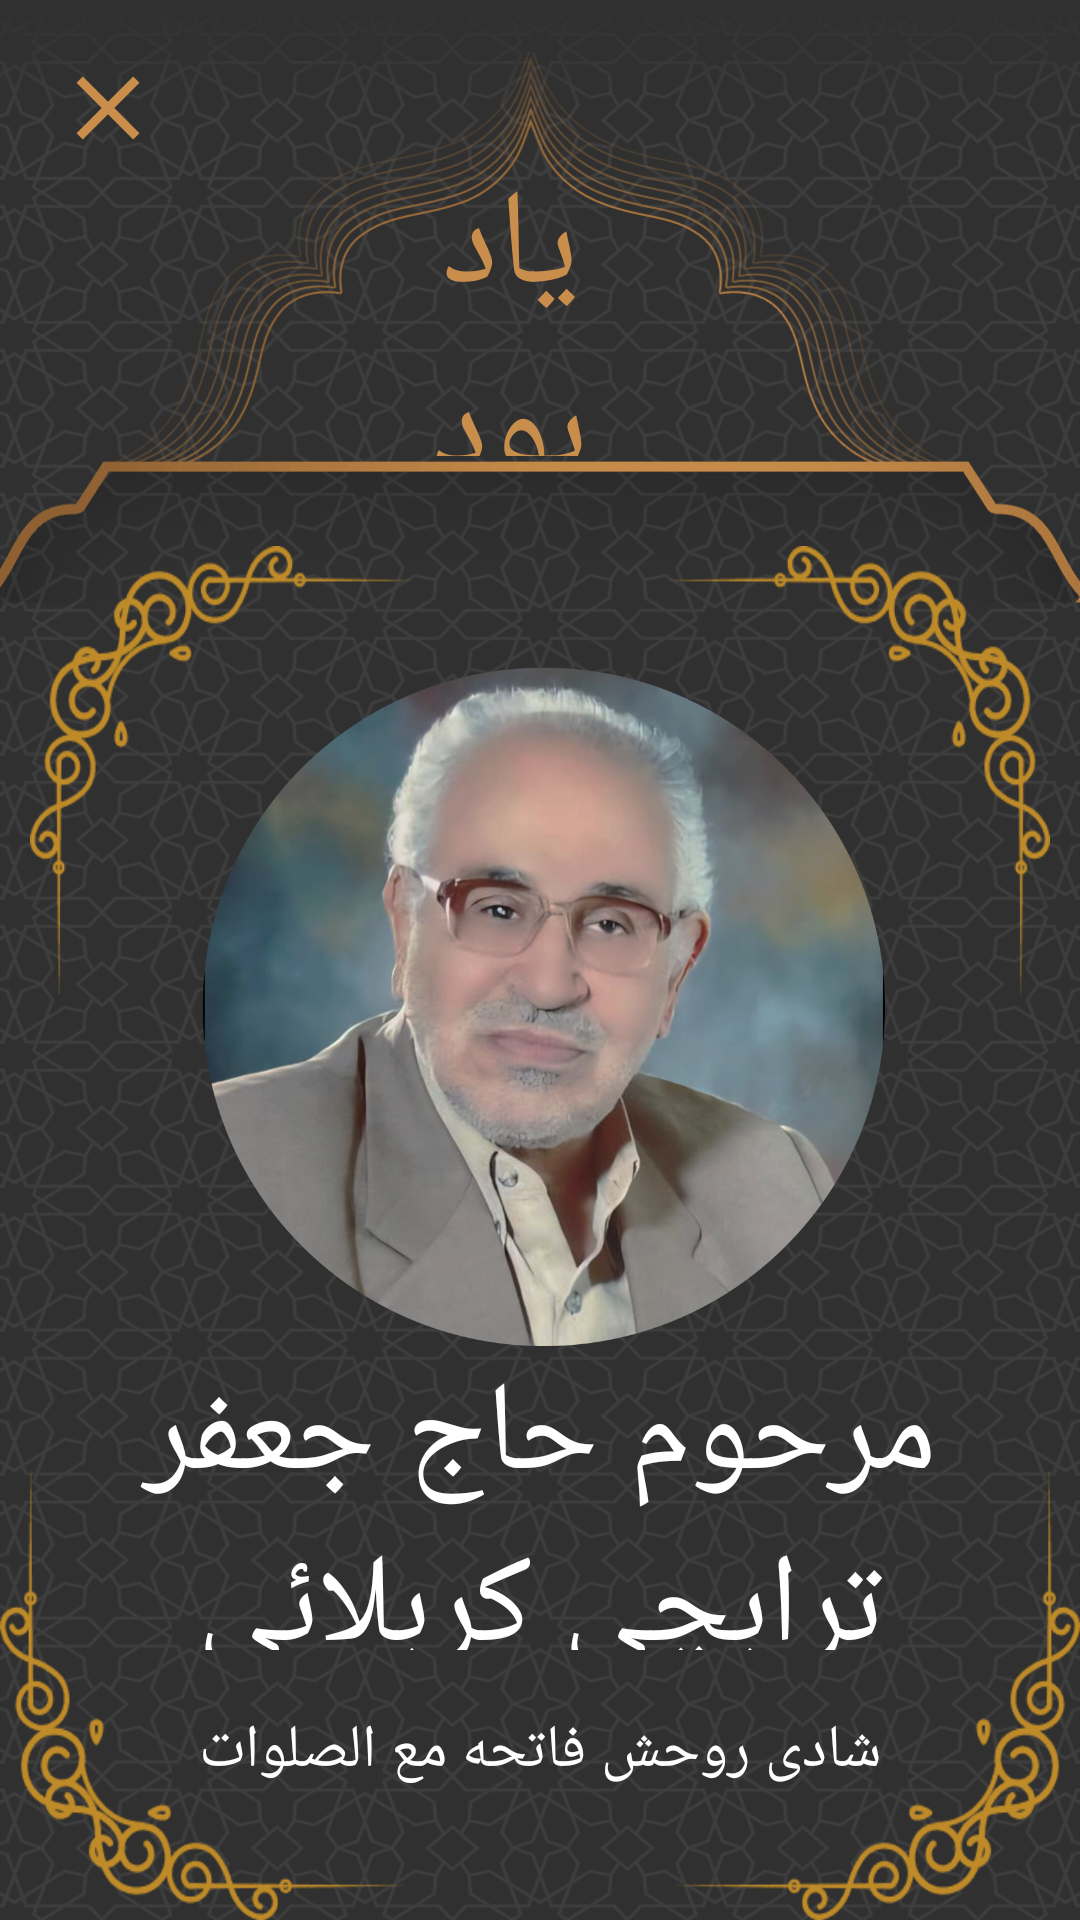

Point at icon controls on the screen. Image size 1080 × 1920, points as point (x, y).
back navigation icon: point (108, 108)
